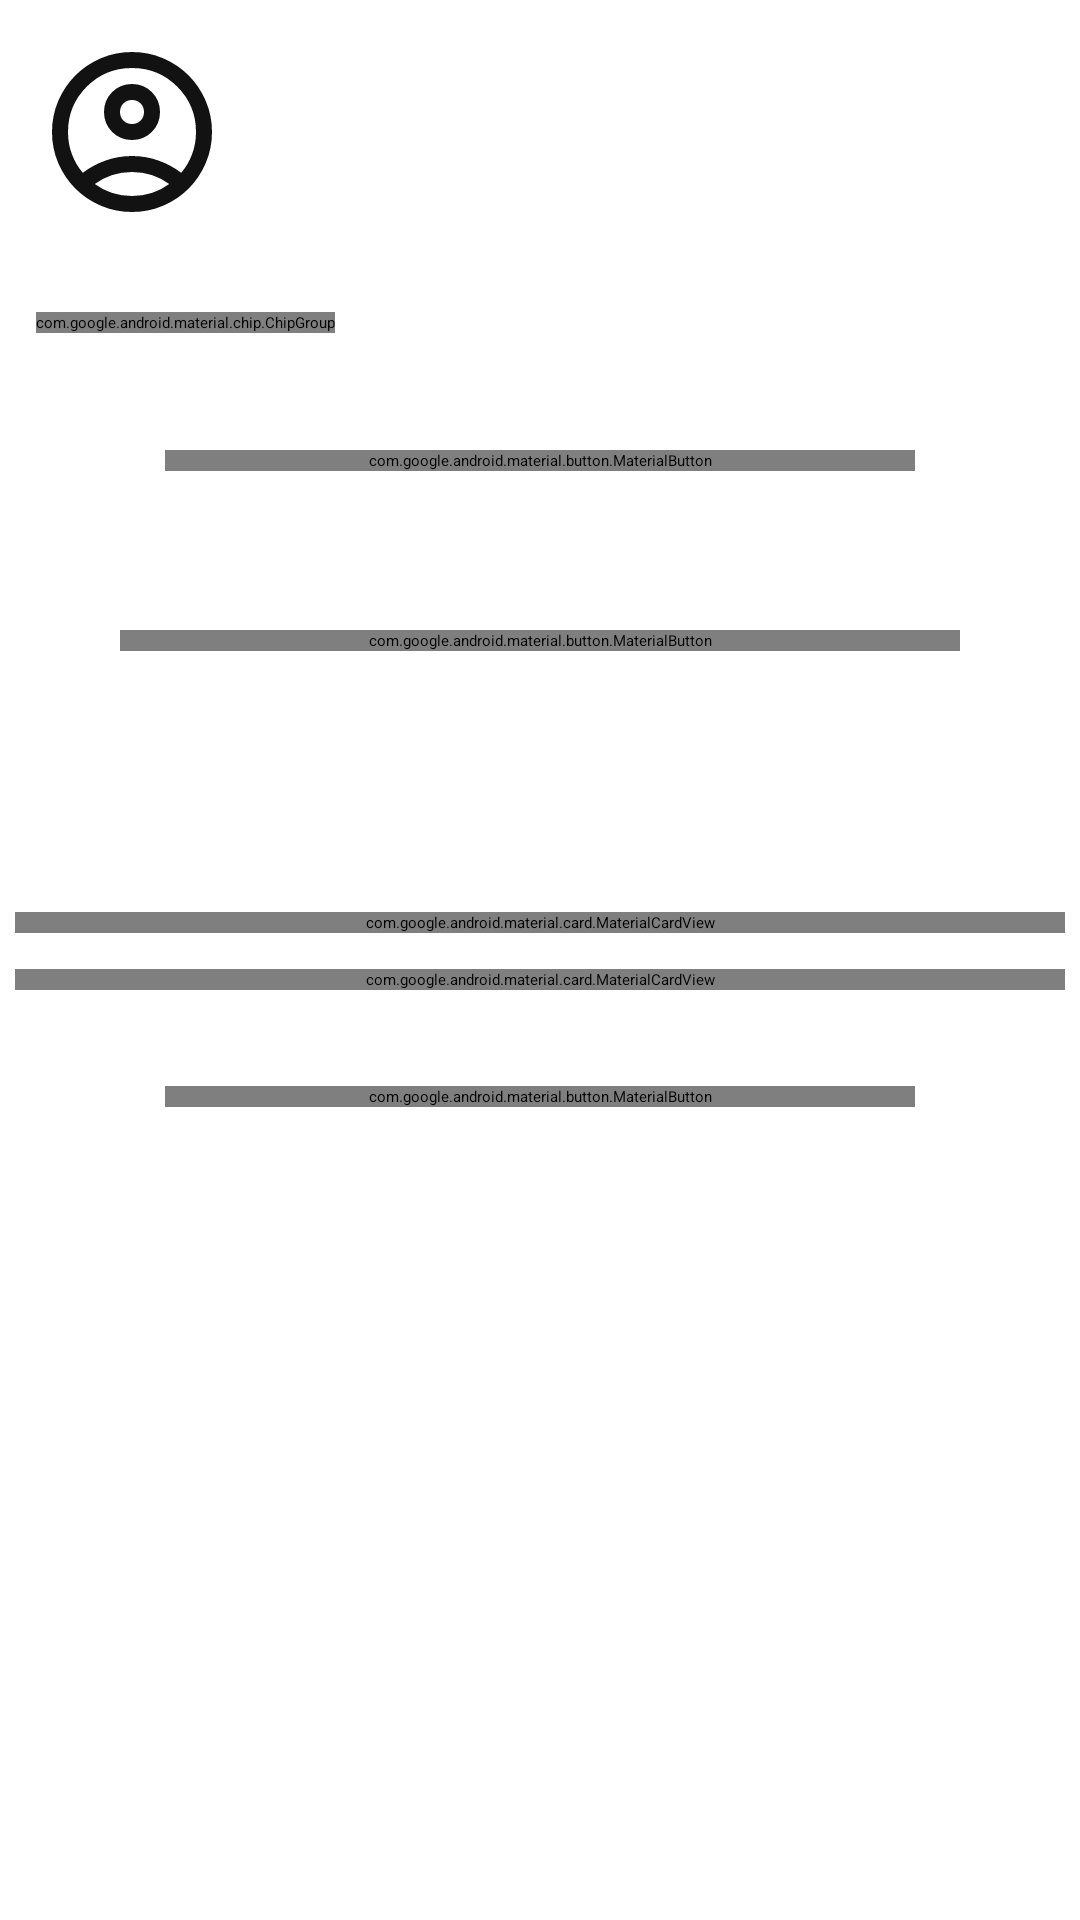

Icon click points for this 1080×1920 phone screenshot, format (x=x, y=y):
Foto del profilo: (x=132, y=132)
